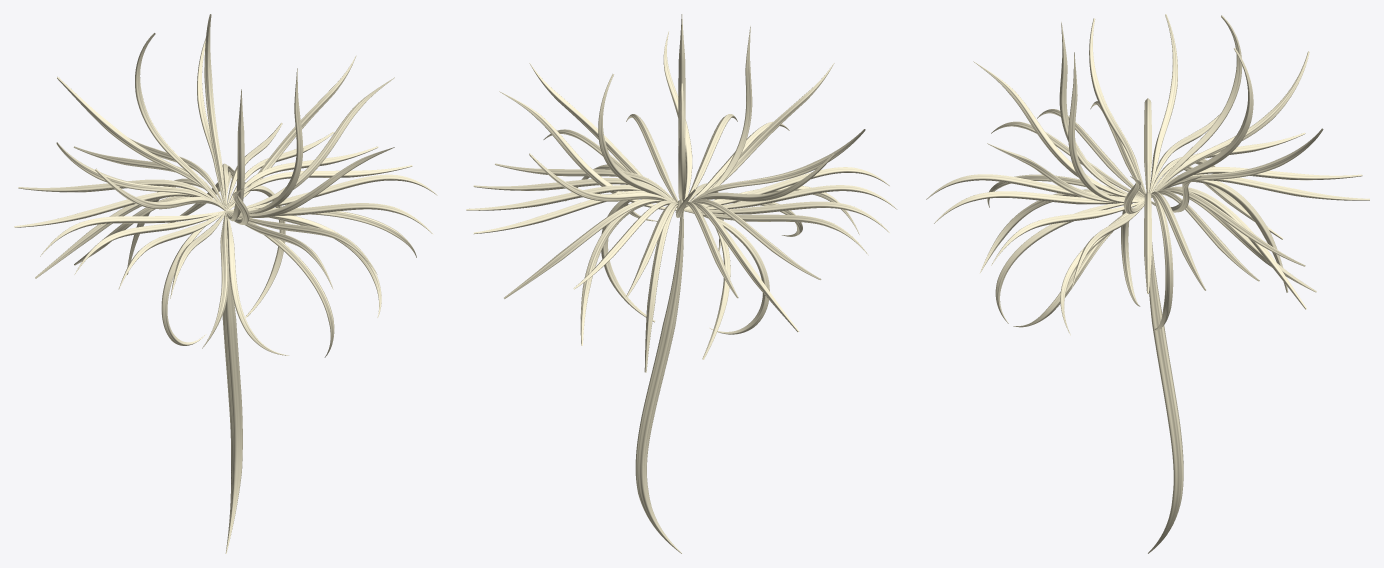
3 views of the same model, side by side, from view 1: azimuth 30°, elevation 25°; view 2: azimuth 150°, elevation 25°; view 3: azimuth 270°, elevation 25° (orthographic). The views are drawn at different scales.
Visible parts, largest first — view 1: BezierCurve.007, BezierCurve.006, BezierCurve.005, BezierCurve.009, BezierCurve.008, BezierCurve.004; view 2: BezierCurve.006, BezierCurve.005, BezierCurve.007, BezierCurve.008, BezierCurve.009, BezierCurve.004; view 3: BezierCurve.006, BezierCurve.007, BezierCurve.005, BezierCurve.009, BezierCurve.008, BezierCurve.004.
Boxes of the visible parts, x1,y1,x2,y2 form: BezierCurve.007: (14,14,437,227); BezierCurve.006: (56,33,394,289); BezierCurve.005: (18,122,433,298); BezierCurve.009: (73,146,381,355); BezierCurve.008: (35,146,416,357); BezierCurve.004: (222,274,242,553); BezierCurve.006: (466,14,897,210); BezierCurve.005: (473,114,889,298); BezierCurve.007: (499,26,865,280); BezierCurve.008: (473,164,889,372); BezierCurve.009: (580,114,802,359); BezierCurve.004: (635,214,683,553); BezierCurve.006: (973,14,1323,281); BezierCurve.007: (987,18,1309,287); BezierCurve.005: (926,98,1369,293); BezierCurve.009: (934,166,1362,330); BezierCurve.008: (987,101,1306,335); BezierCurve.004: (1148,242,1183,553).
Size of the model in its own units: 6.11 by 7.91 by 6.11.
